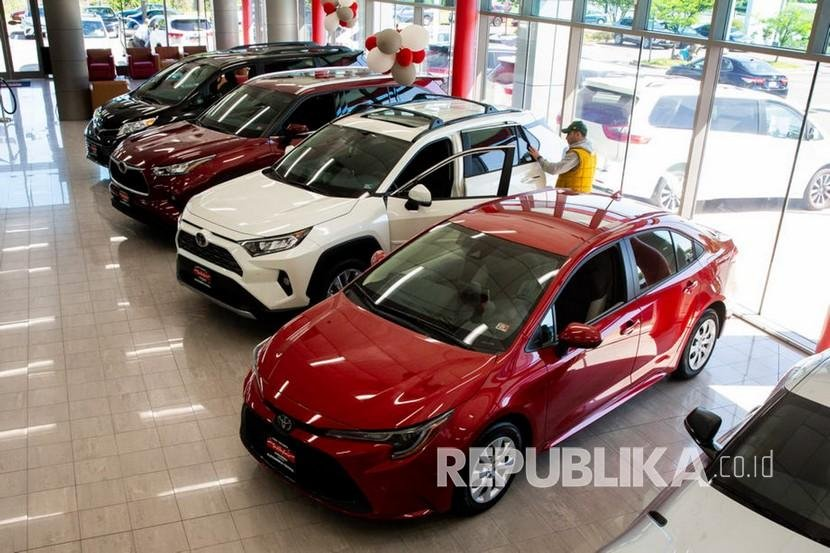mobil: (247, 182, 737, 528), (171, 93, 590, 311)
